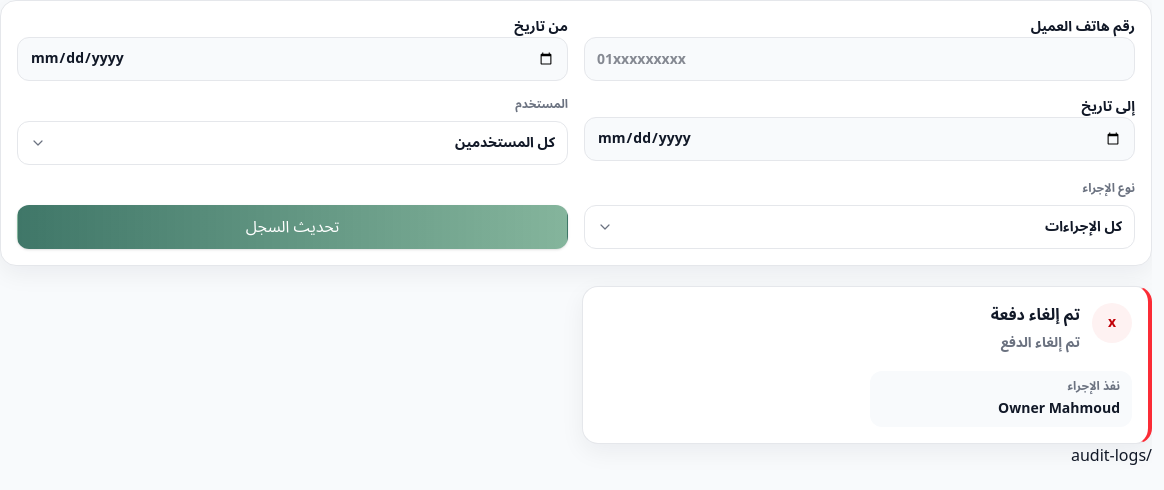
Test: AuditLogsPage › supports searching by customer phone number and updates query params
Type "01012345678" into the search field labelled "رقم هاتف العميل".
click(860, 59); type("01012345678")  # box x1=584 y1=37 x2=1135 y2=81
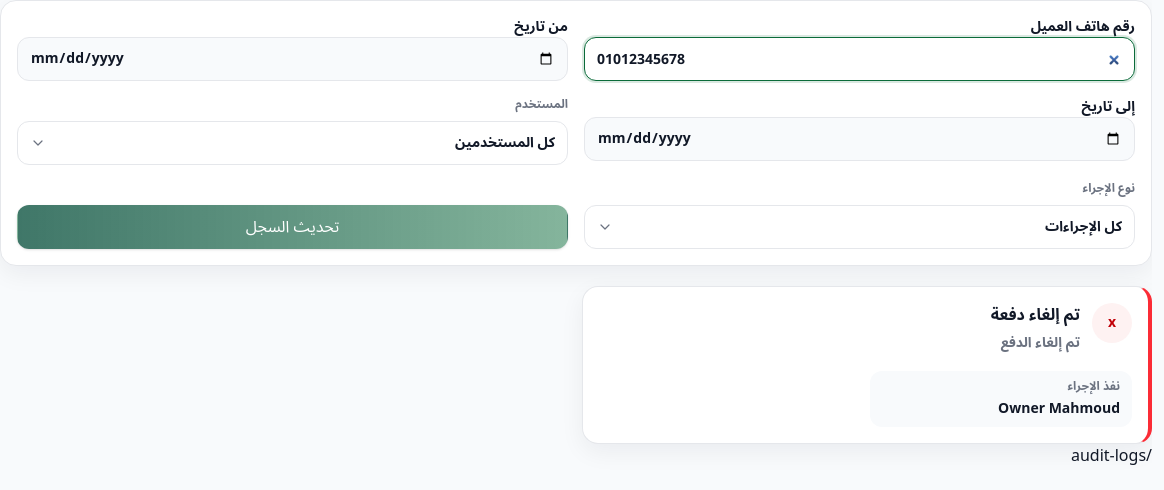
Click the button "تحديث السجل".
click(292, 227)  # box x1=17 y1=205 x2=568 y2=249
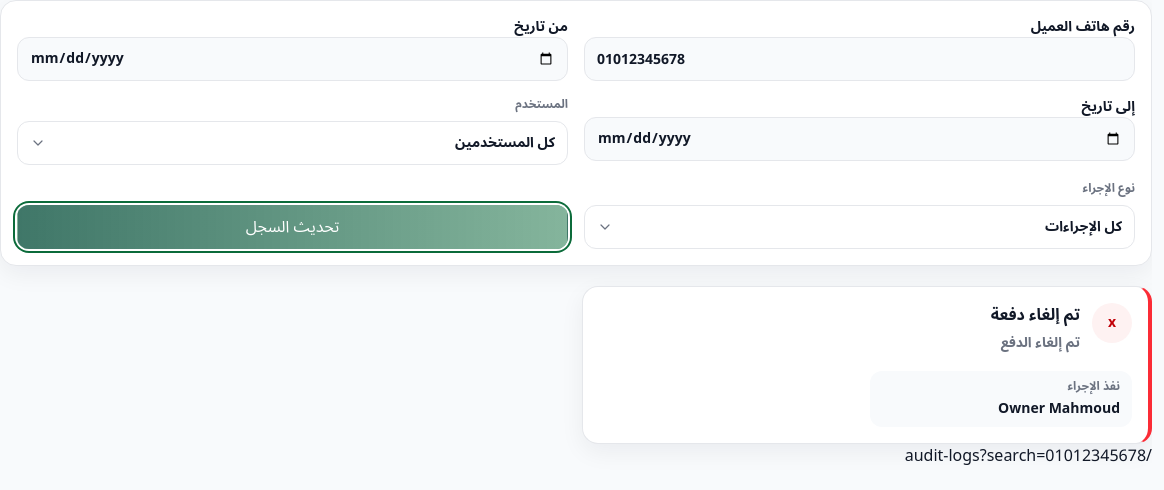
Expected: the text with test id "location" reads "/audit-logs?search=01012345678", x1=905 y1=439 x2=1152 y2=473
